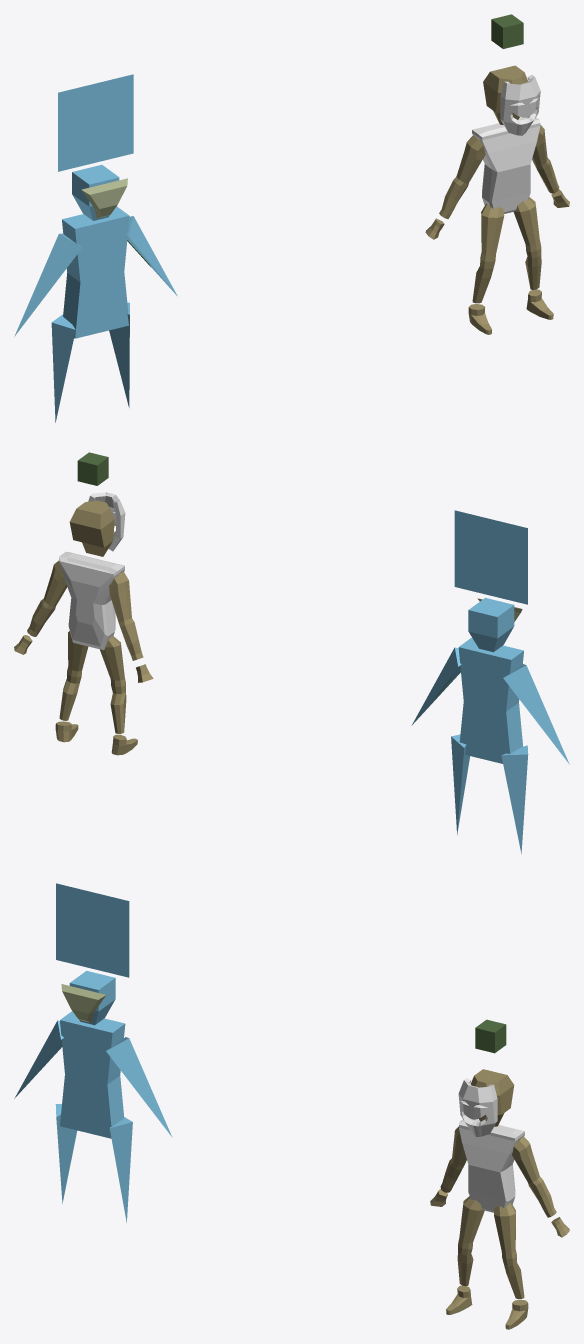
The model's file is char_base.glb.
The picture shows the model from 3 angles, top to bottom: view 1: azimuth 30°, elevation 25°; view 2: azimuth 150°, elevation 25°; view 3: azimuth 330°, elevation 25°; orthographic projection. The views are drawn at different scales.
Parts seen in each view (by area): view 1: Body_old, Want_old, Legs, Torso, Arms, Mask, Arm_R_old, Leg_R_old, Head_old, Head, Mask_old, Leg_L_old (+2 smaller); view 2: Body_old, Want_old, Torso, Legs, Arms, Head_old, Head, Arm_R_old, Leg_R_old, Leg_L_old, Want, Arm_L_old (+1 smaller); view 3: Body_old, Want_old, Torso, Legs, Arms, Mask, Arm_L_old, Leg_L_old, Head_old, Head, Mask_old, Leg_R_old (+2 smaller).
Boxes of the visible parts, bbox=[...] form: Body_old: bbox=[62, 206, 129, 338]; Want_old: bbox=[58, 74, 133, 171]; Legs: bbox=[468, 197, 553, 334]; Torso: bbox=[472, 117, 540, 213]; Arms: bbox=[425, 125, 569, 239]; Mask: bbox=[500, 75, 540, 135]; Arm_R_old: bbox=[14, 233, 82, 336]; Leg_R_old: bbox=[51, 314, 75, 422]; Head_old: bbox=[72, 164, 119, 220]; Head: bbox=[483, 65, 527, 124]; Mask_old: bbox=[81, 178, 127, 218]; Leg_L_old: bbox=[109, 302, 129, 407]; Body_old: bbox=[458, 637, 523, 763]; Want_old: bbox=[454, 510, 527, 604]; Torso: bbox=[59, 551, 124, 649]; Legs: bbox=[55, 631, 137, 755]; Arms: bbox=[14, 560, 153, 682]; Head_old: bbox=[468, 597, 514, 652]; Head: bbox=[69, 500, 114, 556]; Arm_R_old: bbox=[503, 664, 569, 764]; Leg_R_old: bbox=[501, 745, 528, 854]; Leg_L_old: bbox=[451, 734, 470, 834]; Want: bbox=[77, 452, 108, 485]; Arm_L_old: bbox=[411, 647, 461, 725]; Body_old: bbox=[60, 1011, 125, 1138]; Want_old: bbox=[56, 883, 129, 977]; Torso: bbox=[459, 1119, 524, 1212]; Legs: bbox=[446, 1196, 528, 1329]; Arms: bbox=[430, 1126, 569, 1237]; Mask: bbox=[458, 1078, 497, 1136]; Arm_L_old: bbox=[106, 1037, 172, 1137]; Leg_L_old: bbox=[109, 1117, 132, 1222]; Head_old: bbox=[69, 970, 115, 1025]; Head: bbox=[471, 1069, 514, 1126]; Mask_old: bbox=[61, 984, 106, 1022]; Leg_R_old: bbox=[55, 1104, 77, 1203].
Size of what is drawn, in the model's own units: 6.57 by 3.73 by 0.7124.
